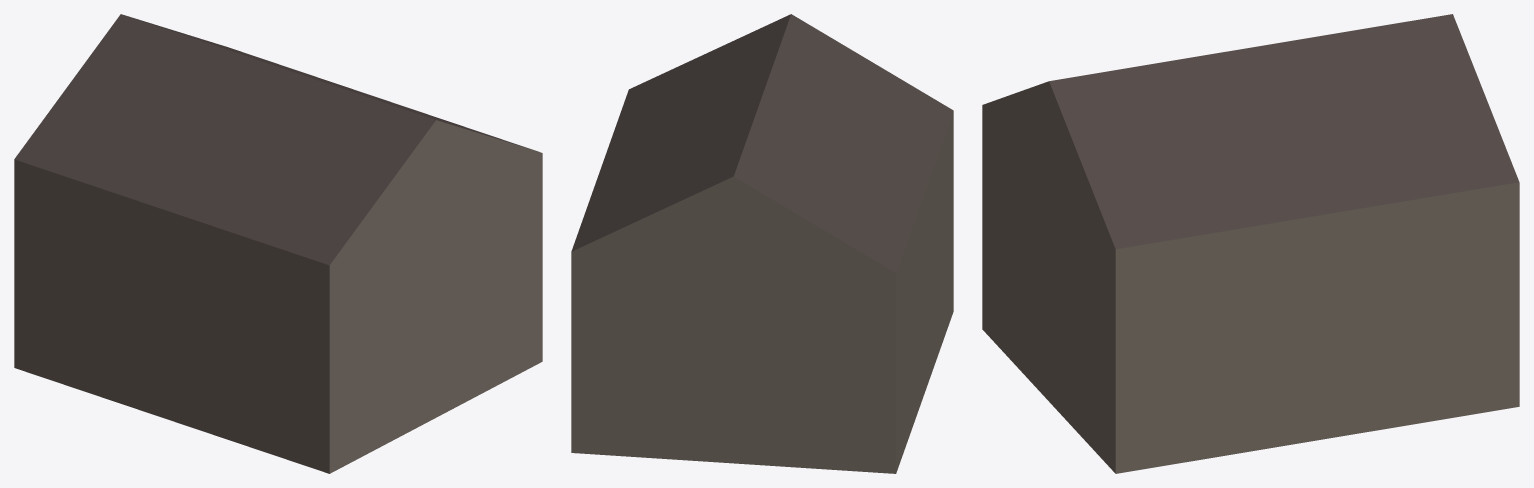
3 renders of one model, left to right at view 1: azimuth 30°, elevation 25°; view 2: azimuth 150°, elevation 25°; view 3: azimuth 270°, elevation 25°, orthographic. The views are drawn at different scales.
Parts seen in each view (by area): view 1: HP-w1287936341; view 2: HP-w1287936341; view 3: HP-w1287936341.
Part boxes in pixels (bbox=[...]): HP-w1287936341: bbox=[14, 14, 542, 473]; HP-w1287936341: bbox=[571, 14, 953, 473]; HP-w1287936341: bbox=[982, 14, 1519, 473].
Bounding box in the file's own units: 12.13 × 8.57 × 13.01.
